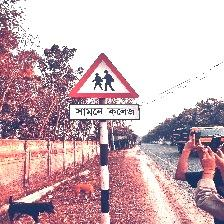College-in-front: (59, 45, 154, 137)
